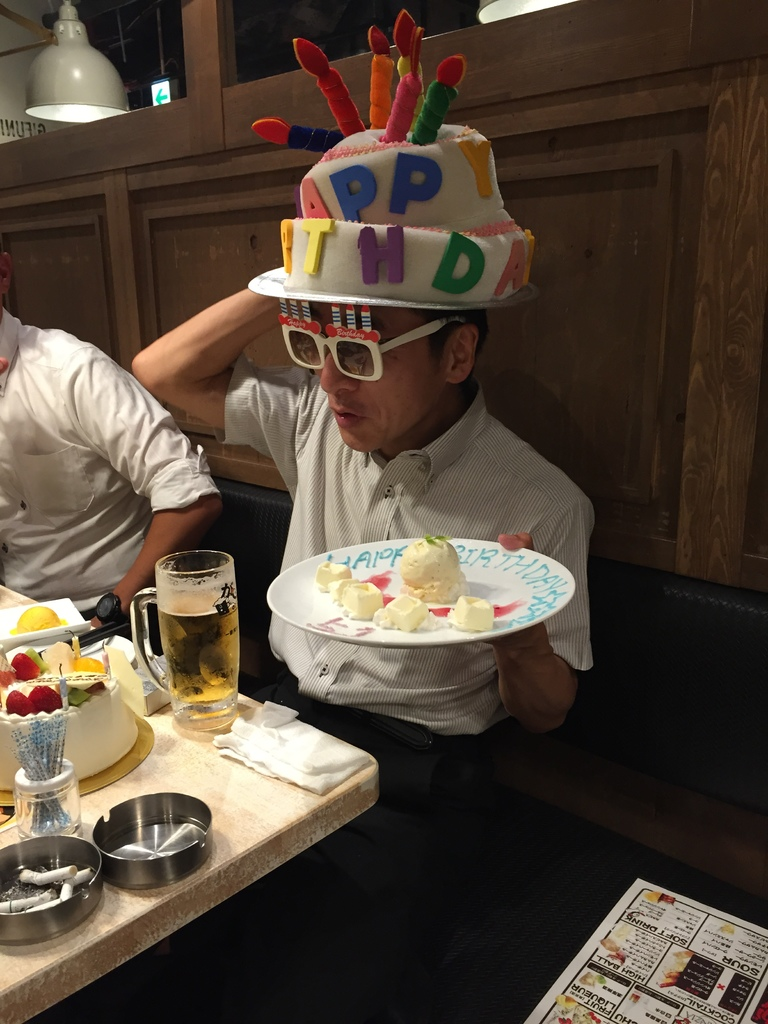cake: (0, 644, 136, 790)
